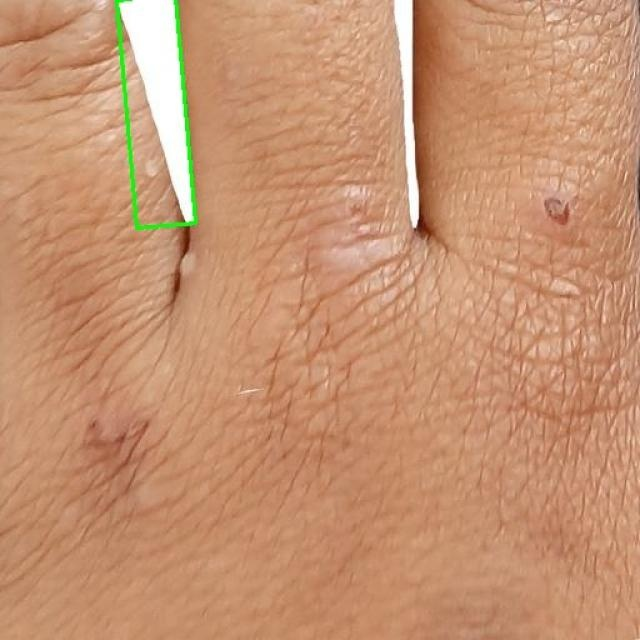Scabies: (117, 0, 196, 229)
